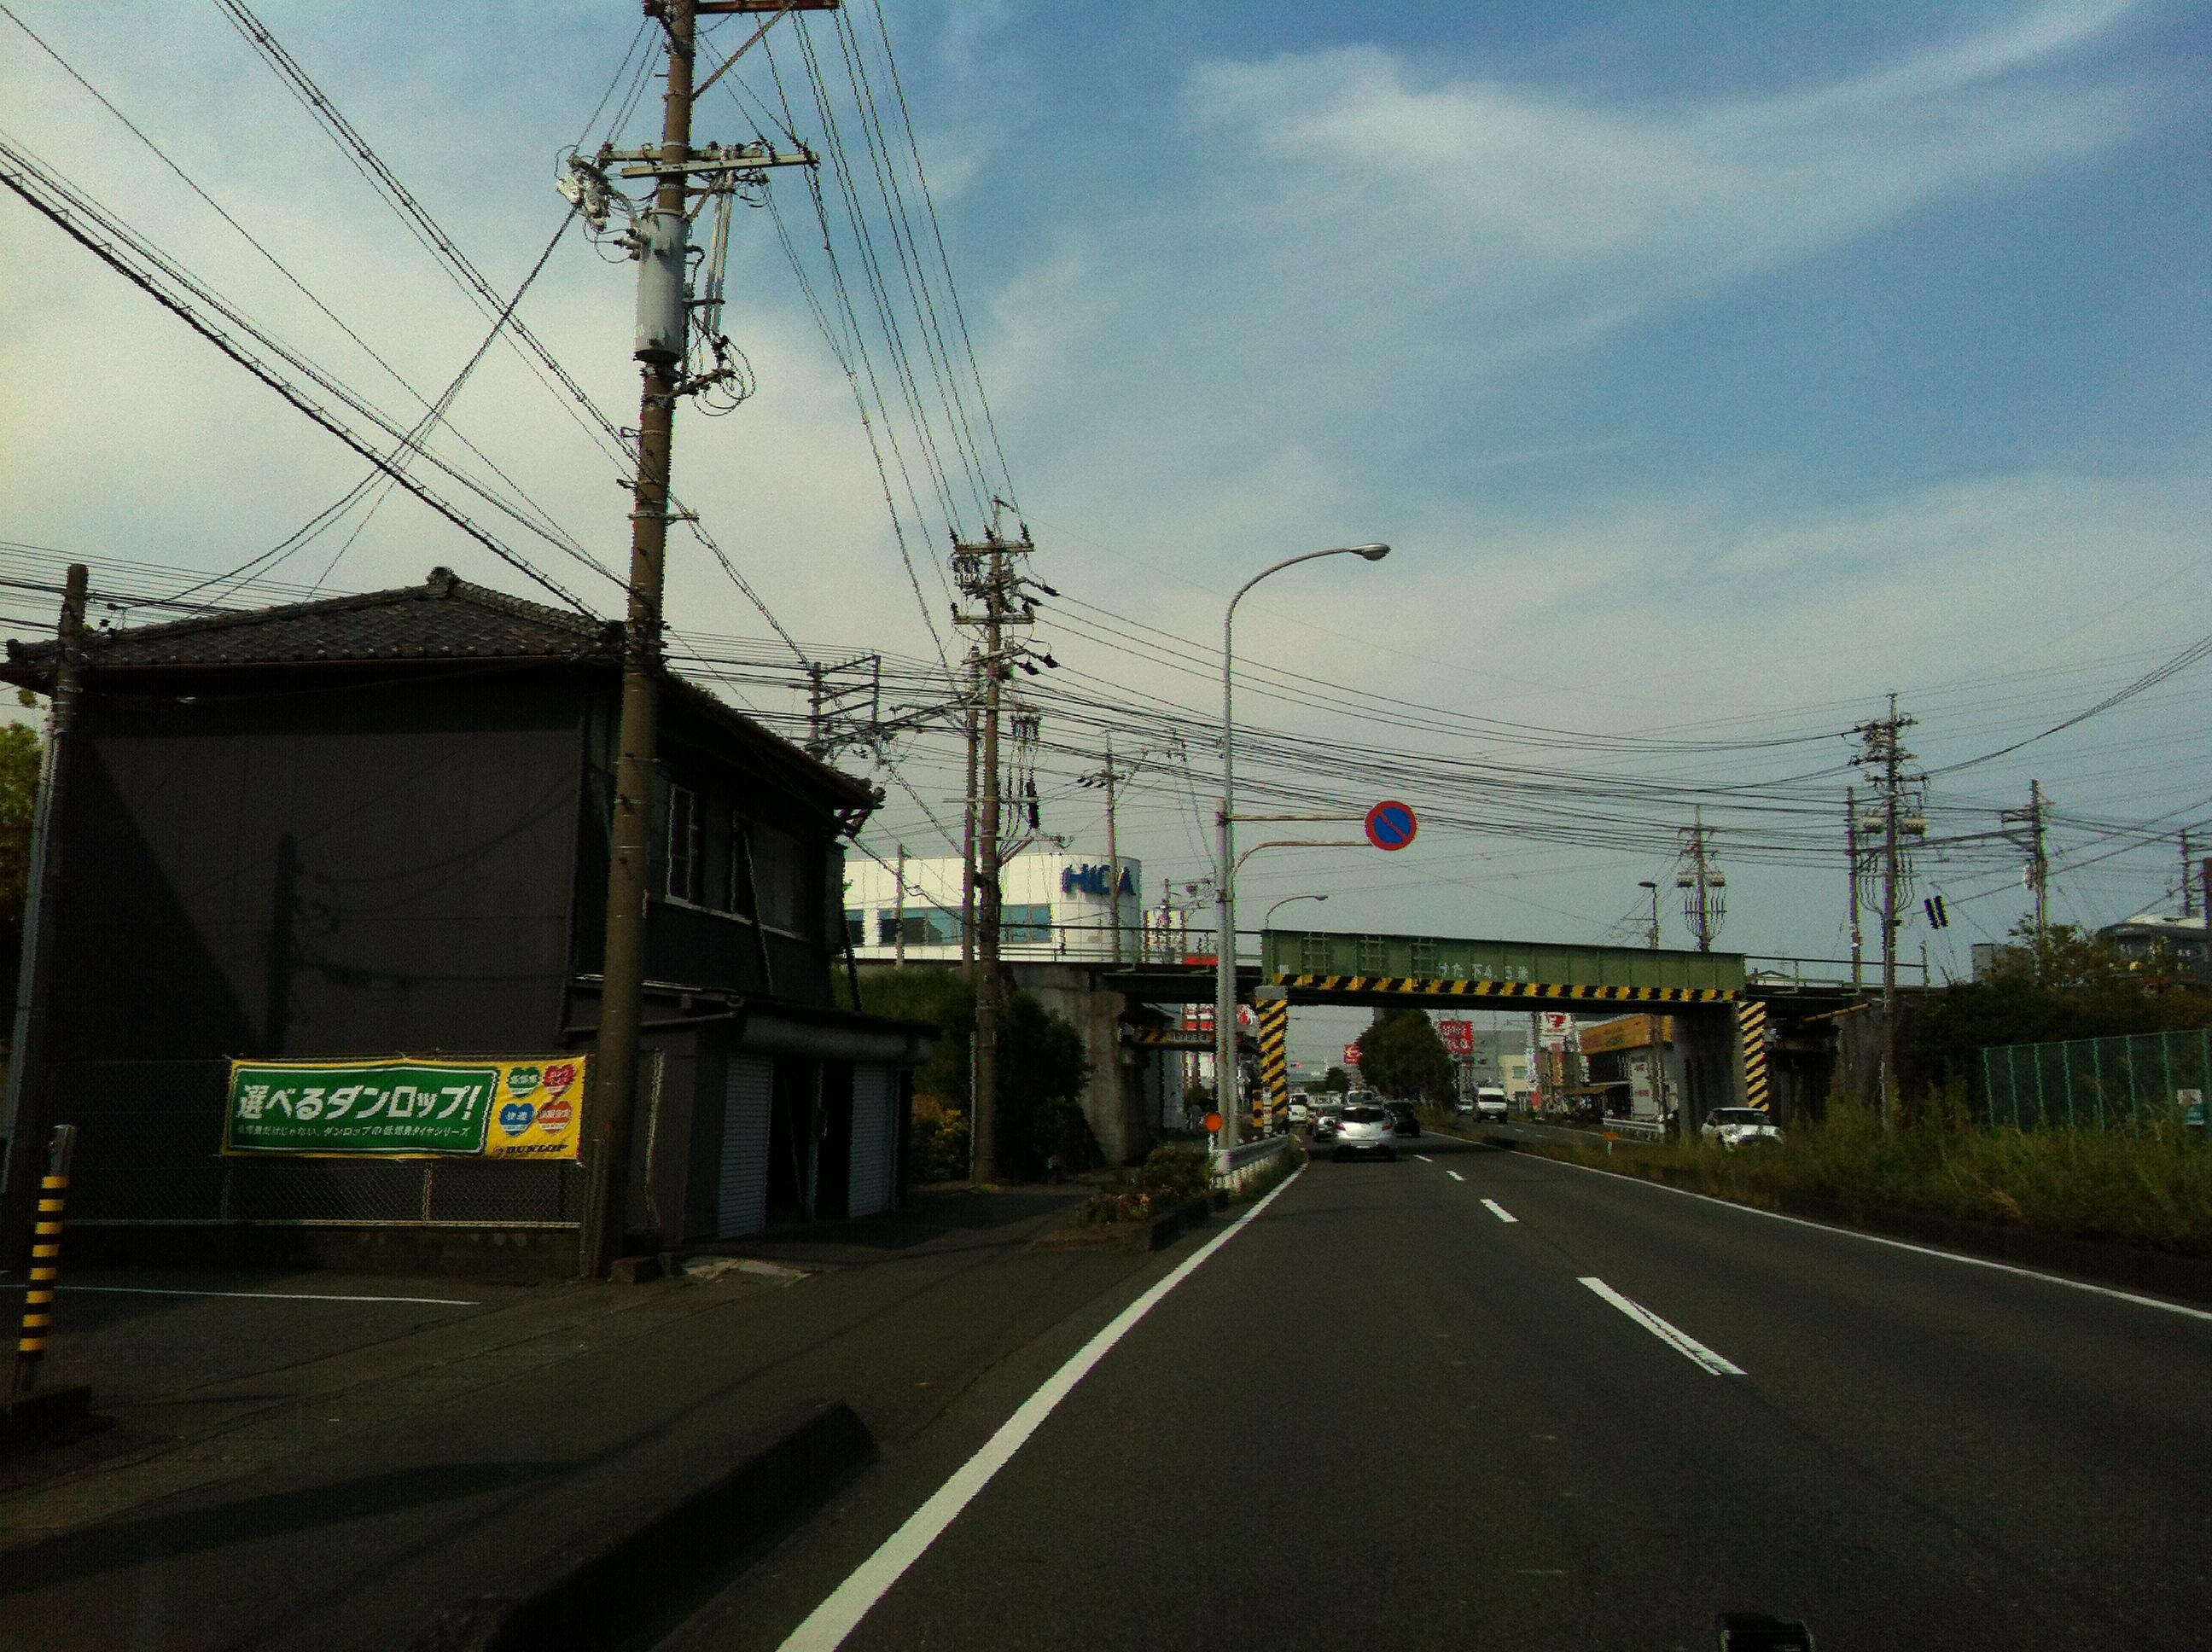vinyl banner: (213, 1032, 586, 1173)
